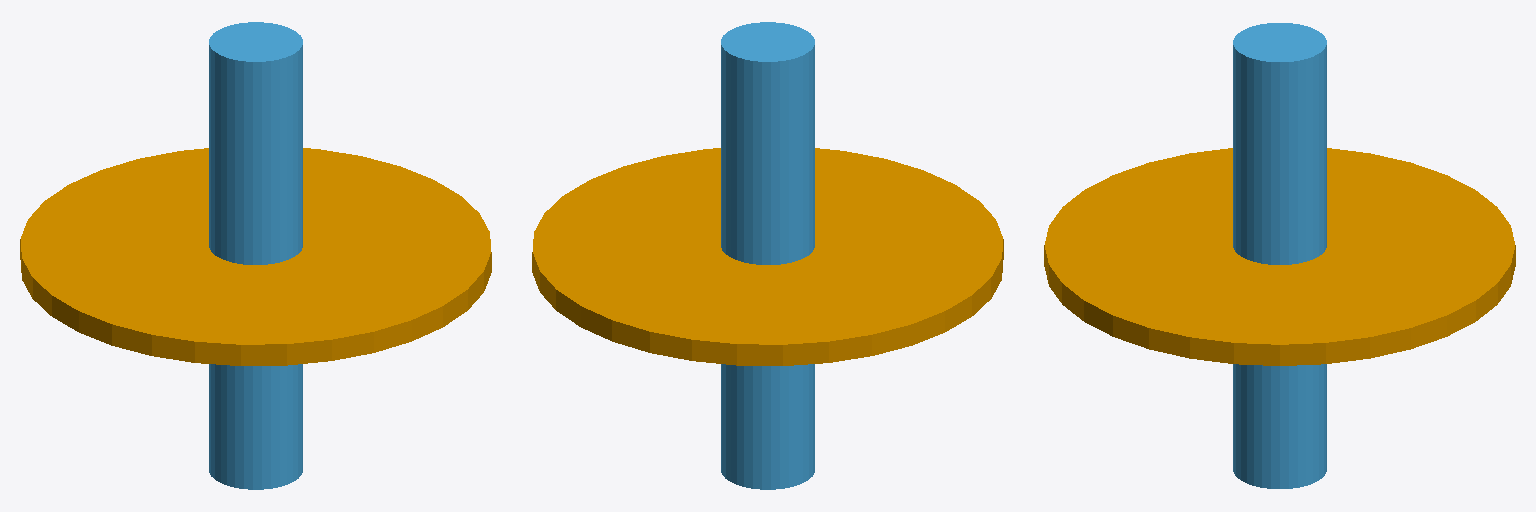
URDF robot description (pan_tilt):
<?xml version="1.0"?>
<robot name="pan_tilt">


<!-- baza robotului -->
	<link name="base_link">
		
		<!-- baza robotului VIZUAL-->
    <visual>

			<!-- baza robotului GEOMETRIE-->
			<geometry>
				<cylinder length="0.02" radius="0.2"/>
      </geometry>
    </visual>
  
	</link>


	<link name="pan_link">
		
		<!-- baza robotului VIZUAL-->
    <visual>

			<!-- baza robotului GEOMETRIE-->
			<geometry>
				<cylinder length="0.4" radius="0.04"/>
      </geometry>
    </visual>
  
	</link>


<!--CUPLE: baza robotului & cilindru -->
	<joint name="base_to_pan_link" type="fixed">
    <parent link="base_link"/>
    <child link="pan_link"/>
	</joint>


</robot>

--- Render facts (derived) ---
3 views of the same robot in one strip: view 1: azimuth 30°, elevation 25°; view 2: azimuth 150°, elevation 25°; view 3: azimuth 270°, elevation 25° (orthographic).
Model pan_tilt with 2 links and 1 joints (1 fixed), rooted at base_link, posed every joint at zero.
Visible links, largest first — view 1: base_link, pan_link; view 2: base_link, pan_link; view 3: base_link, pan_link.
Boxes of the visible links, x1,y1,x2,y2 form: base_link: [20, 148, 491, 365]; pan_link: [209, 22, 302, 489]; base_link: [532, 148, 1003, 365]; pan_link: [721, 22, 814, 489]; base_link: [1044, 148, 1515, 365]; pan_link: [1233, 23, 1326, 488].
Size in the robot's own frame: 0.4 by 0.4 by 0.4 metres.
Geometry: primitives only (box / cylinder / sphere), no mesh files.